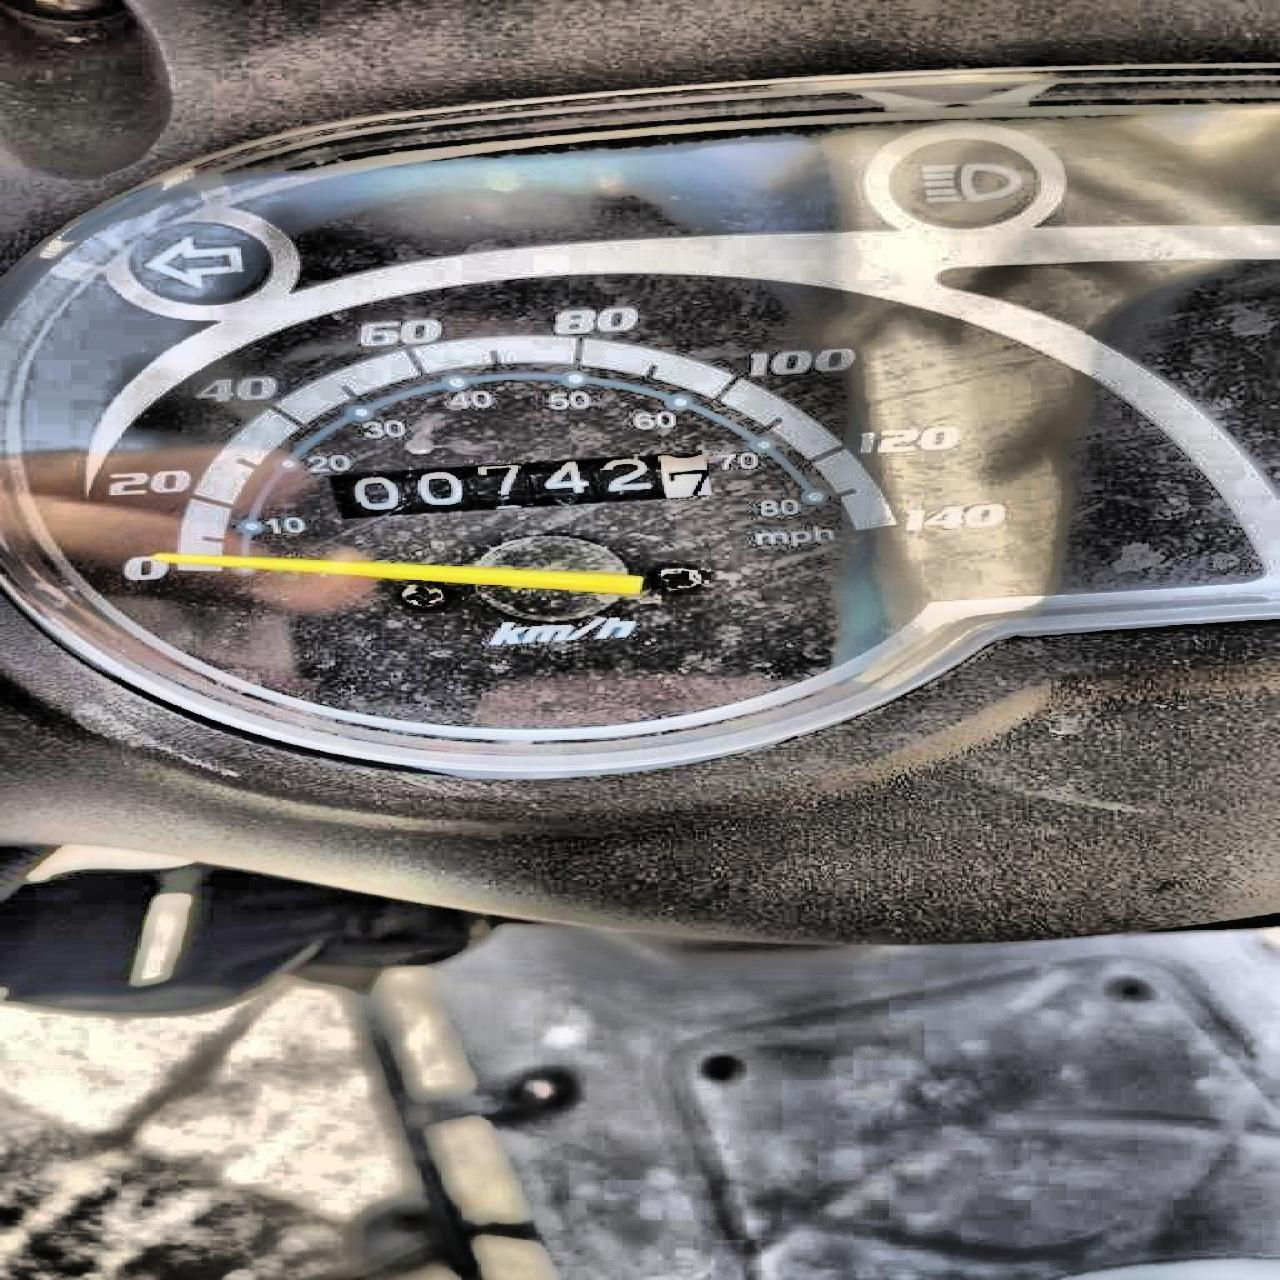0: (345, 474, 400, 512), (411, 468, 462, 506), (329, 452, 350, 472)
2: (600, 456, 651, 491)
4: (540, 457, 591, 497)
7: (471, 461, 526, 495), (660, 469, 712, 503), (715, 452, 735, 469)
odometer: (320, 450, 736, 520)
